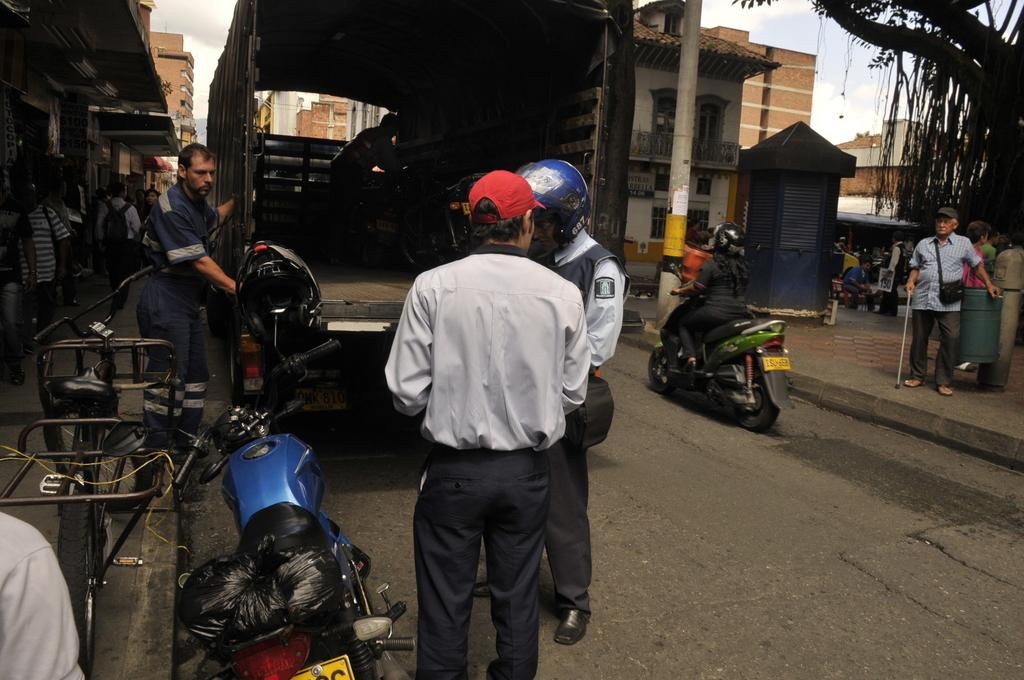helmet: (235, 239, 322, 344), (509, 159, 592, 246), (713, 221, 747, 256)
nohelmet: (468, 170, 547, 255), (177, 143, 216, 199), (935, 207, 959, 237), (967, 220, 990, 247), (144, 188, 160, 207), (892, 230, 904, 246), (862, 258, 873, 272)
